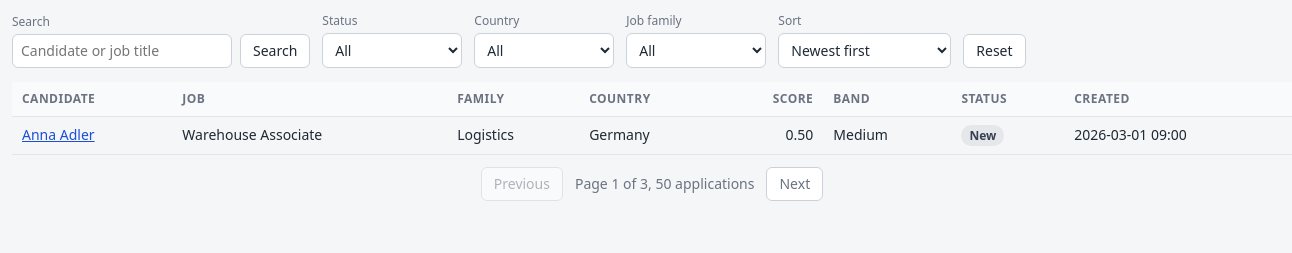
Scenario: applies the search on submit and resets to page 1
This screenshot has width=1292, height=253.
Expected: the button "Anna Adler" is shown, x1=22 y1=125 x2=95 y2=145
Click the button "Next". click: click(795, 184)
box: x1=766 y1=167 x2=823 y2=202
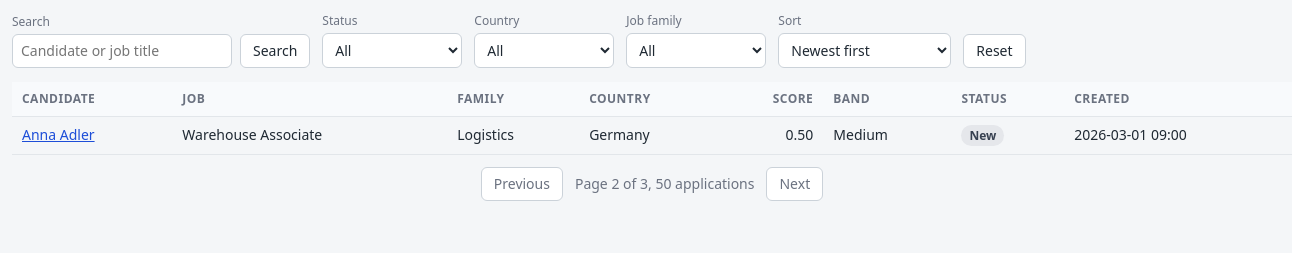
Result: the text "Page 2 of 3, 50 applications" is shown at x1=575 y1=174 x2=754 y2=194
Type "  nurse " into the search field labelled "Search". click: (122, 51)
box: x1=12 y1=34 x2=232 y2=68
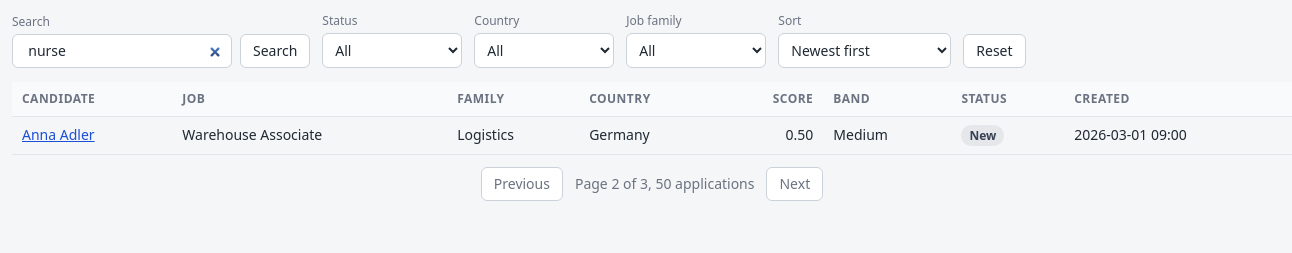
Submit the form, box x1=12 y1=13 x2=310 y2=68
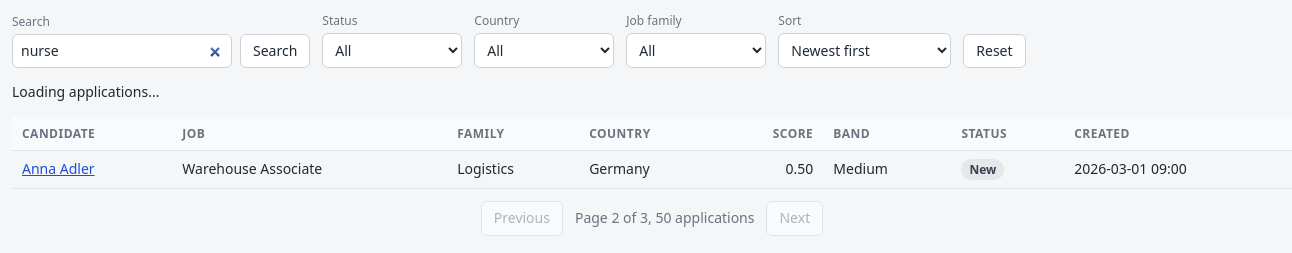
Click the button "Reset". click: click(994, 51)
box: x1=963 y1=34 x2=1026 y2=68
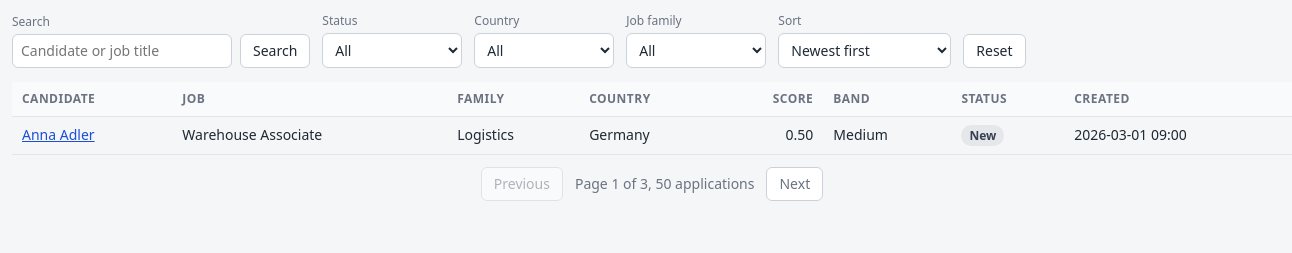
Result: the search field labelled "Search" is empty at x1=12 y1=34 x2=232 y2=68
